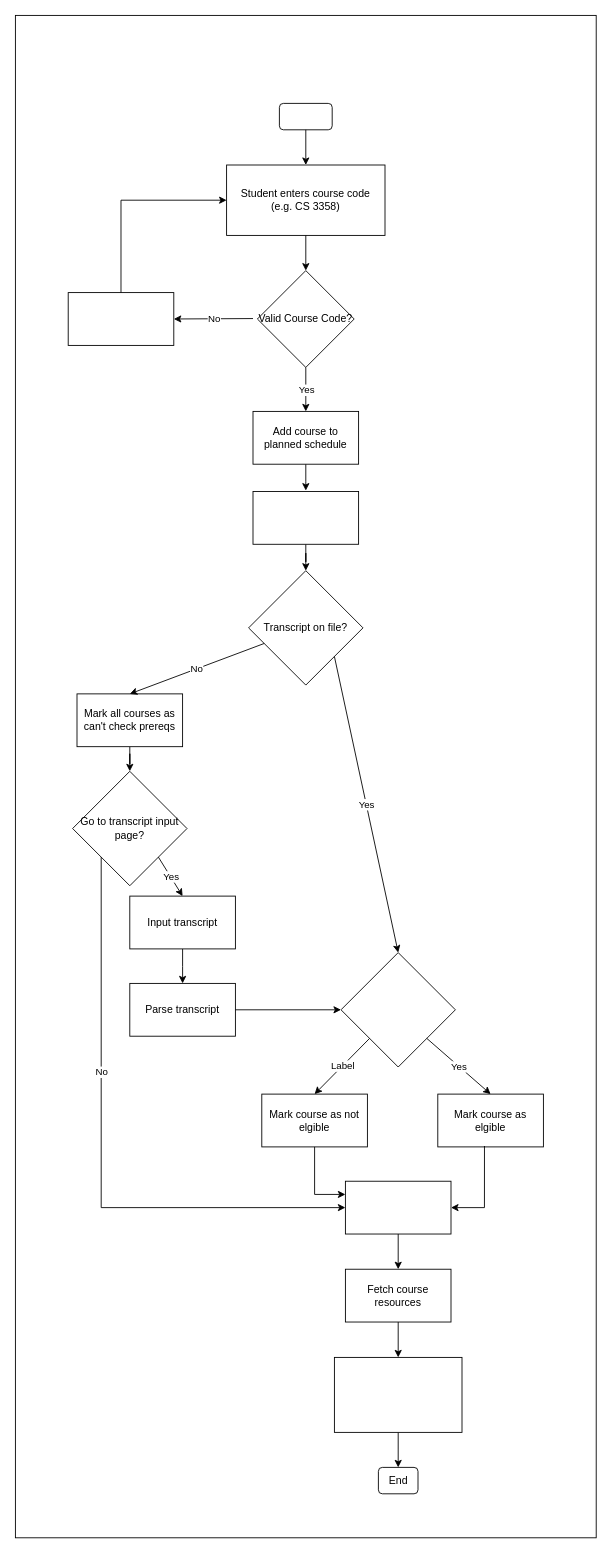
The diagram is 612 pixels wide and 1553 high, and some of its shapes have lost their labels. The box of each missing label's shape, as (x1, y1, x2, y2) in pixels:
Display course details: summary + resources + prereq status: (334, 1357, 462, 1432)
Error: Course not found: (67, 292, 174, 345)
Fetch course summary: (345, 1180, 451, 1234)
Prereqs/coreqs met?: (340, 952, 455, 1067)
Start: (279, 103, 332, 130)
Submit courses to checker: (252, 491, 359, 544)
